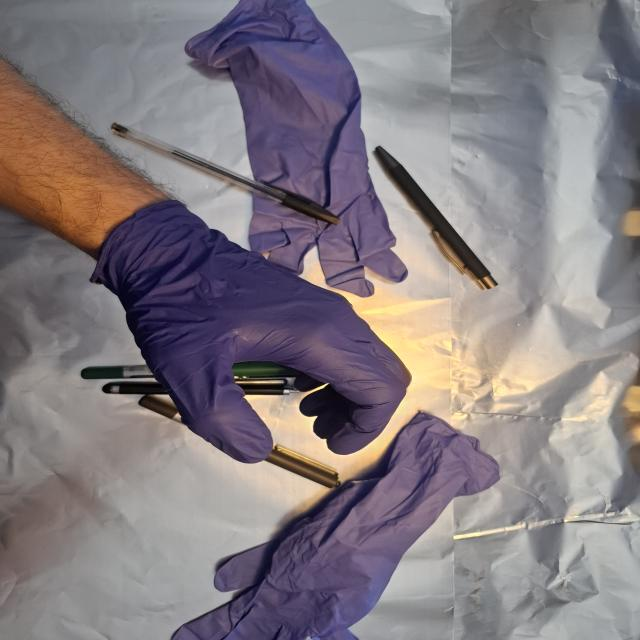glove_on: (94, 197, 416, 465)
